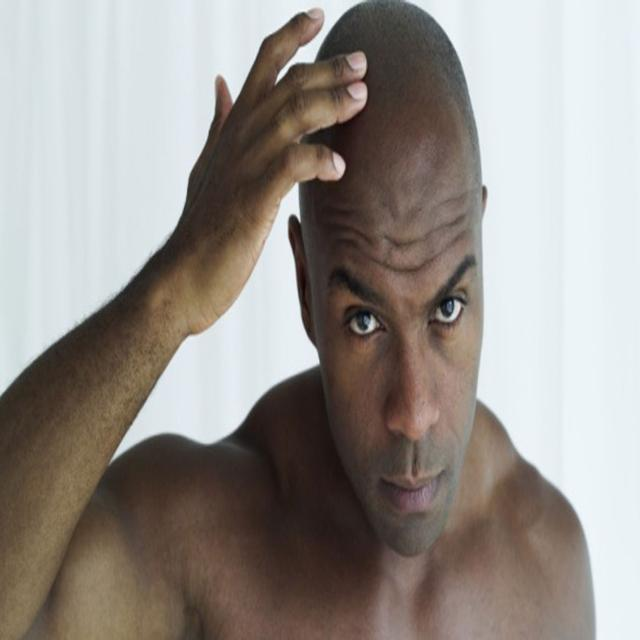no_helmet: (291, 0, 508, 231)
